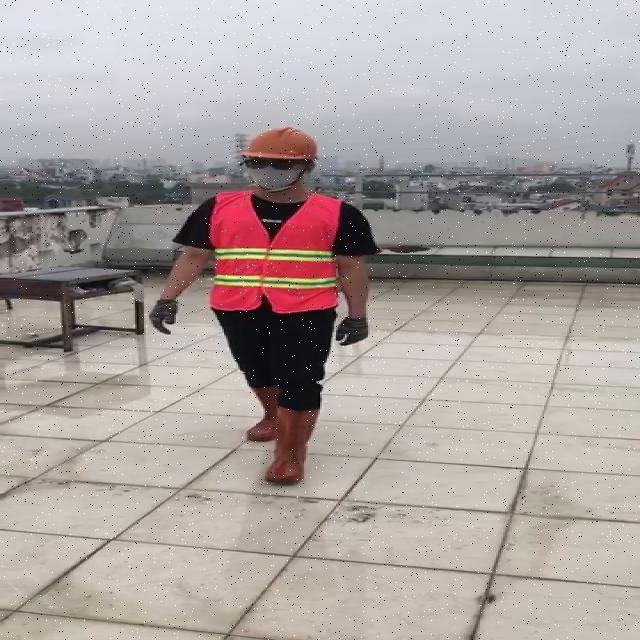Hard_hat: (236, 124, 325, 172)
Person: (153, 124, 386, 513)
Vest: (207, 187, 343, 314)
